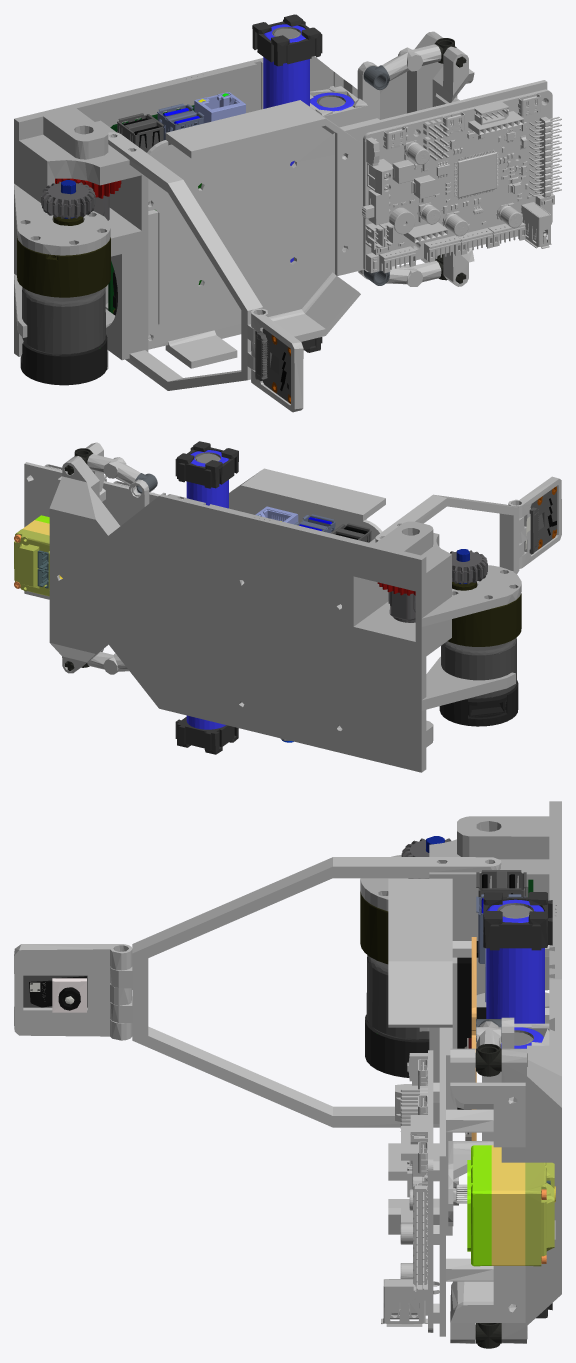
The model's file is car_body.obj.
3 views of the same model, one above another, from view 1: azimuth 30°, elevation 25°; view 2: azimuth 150°, elevation 25°; view 3: azimuth 270°, elevation 25° (orthographic). The views are drawn at different scales.
Parts seen in each view (by area): view 1: part48, part45, part27, part16, part28, part17, part23, part22, part32, part42, part33, part30 (+3 smaller); view 2: part45, part48, part22, part27, part16, part17, part47, part32, part28, part23, part42, part26; view 3: part48, part45, part23, part58, part22, part43, part47, part27, part17, part28, part16, part14 (+5 smaller).
Boxes of the visible parts, x1=… form: part48: x1=105, y1=44, x2=561, y2=412; part45: x1=14, y1=31, x2=443, y2=369; part27: x1=22, y1=287, x2=105, y2=355; part16: x1=17, y1=216, x2=110, y2=297; part28: x1=117, y1=113, x2=290, y2=402; part17: x1=20, y1=334, x2=107, y2=385; part23: x1=263, y1=24, x2=354, y2=262; part22: x1=252, y1=14, x2=322, y2=352; part32: x1=41, y1=181, x2=109, y2=220; part42: x1=194, y1=92, x2=245, y2=123; part33: x1=157, y1=103, x2=204, y2=140; part30: x1=363, y1=65, x2=389, y2=285; part45: x1=49, y1=456, x2=521, y2=772; part48: x1=24, y1=442, x2=561, y2=674; part22: x1=175, y1=441, x2=238, y2=754; part27: x1=441, y1=638, x2=516, y2=698; part16: x1=448, y1=582, x2=521, y2=646; part17: x1=439, y1=680, x2=518, y2=726; part47: x1=14, y1=529, x2=49, y2=596; part32: x1=388, y1=550, x2=487, y2=622; part28: x1=330, y1=489, x2=556, y2=554; part23: x1=186, y1=450, x2=228, y2=729; part42: x1=255, y1=506, x2=298, y2=524; part26: x1=37, y1=550, x2=48, y2=588; part48: x1=14, y1=857, x2=549, y2=1343; part45: x1=360, y1=801, x2=561, y2=1343; part23: x1=486, y1=899, x2=544, y2=1048; part58: x1=491, y1=1145, x2=525, y2=1265; part22: x1=483, y1=892, x2=552, y2=1318; part43: x1=467, y1=1145, x2=491, y2=1266; part47: x1=525, y1=1162, x2=554, y2=1266; part27: x1=366, y1=955, x2=429, y2=1040; part17: x1=365, y1=1014, x2=429, y2=1077; part28: x1=23, y1=870, x2=528, y2=1007; part16: x1=360, y1=891, x2=388, y2=964; part14: x1=457, y1=941, x2=486, y2=1134.
Size of the model in its own units: 0.2435 by 0.1372 by 0.1708.
